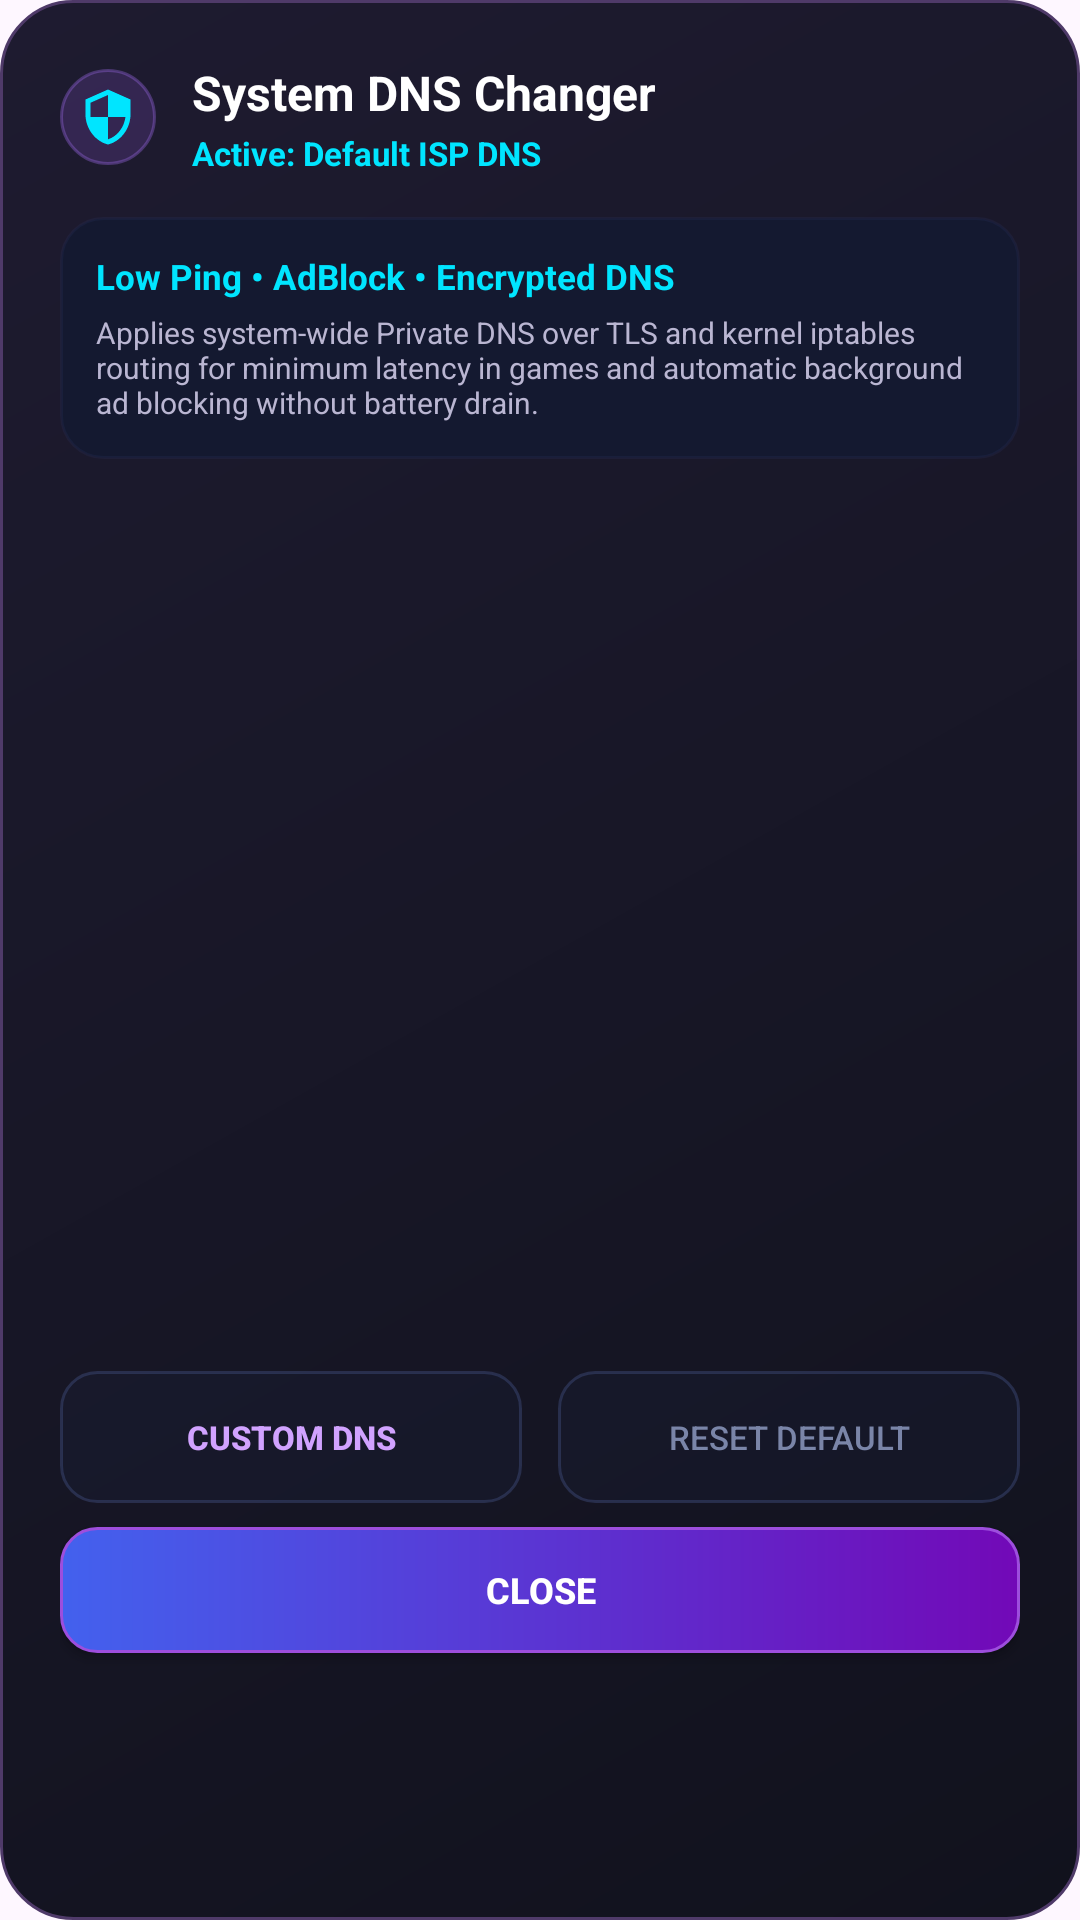

Screen size 1080 x 1920. Icon name, then its center in pixels as point (x, y):
shield: point (108, 117)
